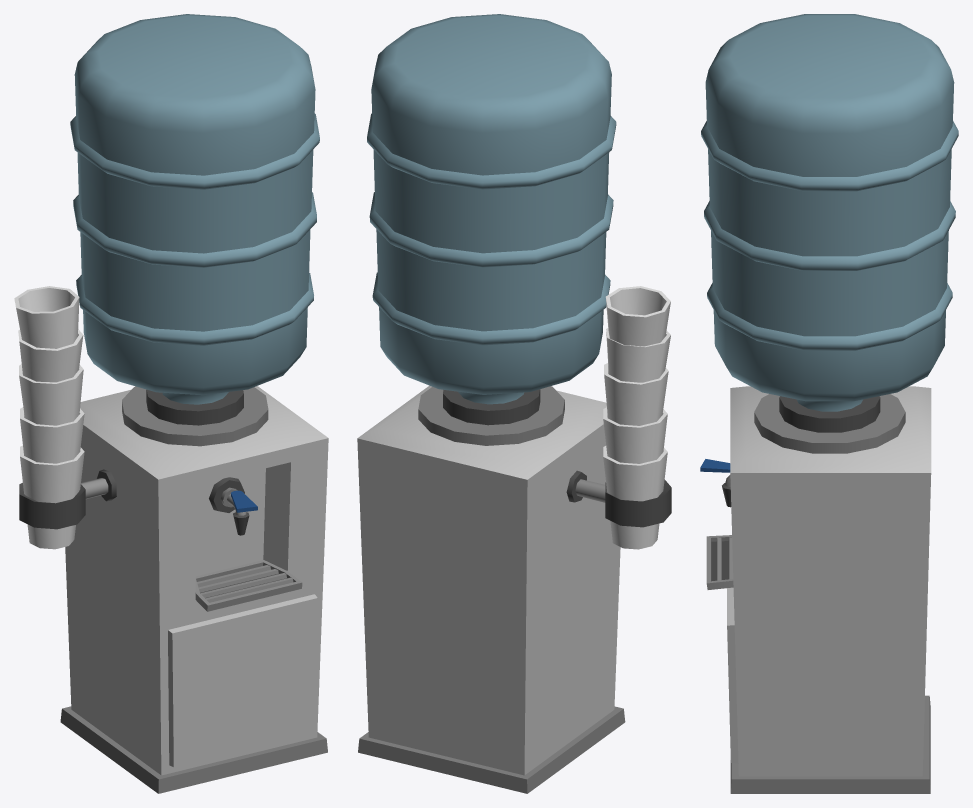
Rendered from water_dispenser.glb.
The picture shows the model from 3 angles, left to right: view 1: azimuth 30°, elevation 25°; view 2: azimuth 150°, elevation 25°; view 3: azimuth 270°, elevation 25°; orthographic projection. The views are drawn at different scales.
Parts seen in each view (by area): view 1: water_dispenser.001; view 2: water_dispenser.001; view 3: water_dispenser.001.
Boxes of the visible parts, left/top/right/bottom form: water_dispenser.001: left=14, top=14, right=328, bottom=793; water_dispenser.001: left=357, top=14, right=671, bottom=793; water_dispenser.001: left=700, top=14, right=958, bottom=793.
Bounding box in the file's own units: 0.843 × 1.94 × 0.6538.
